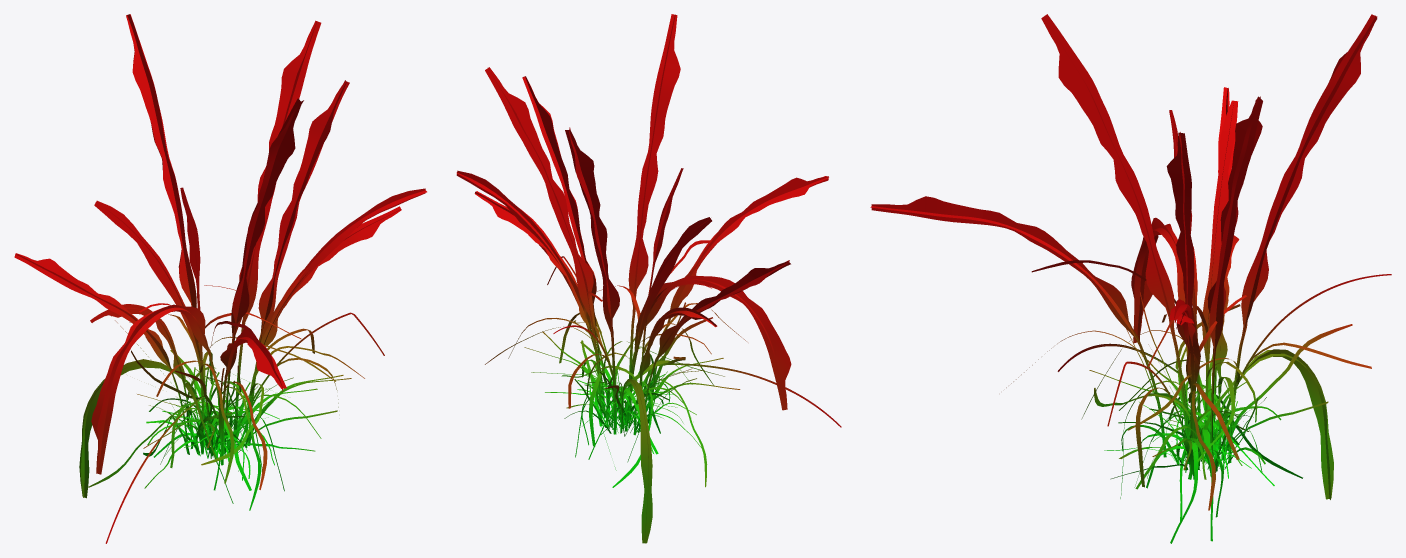
File: Wheat_LOD0_Var2_smdoejyr.fbx
3 views of the same model, side by side, from view 1: azimuth 30°, elevation 25°; view 2: azimuth 150°, elevation 25°; view 3: azimuth 270°, elevation 25° (orthographic). The views are drawn at different scales.
Visible parts, largest first — view 1: _iked_Var2_LOD0; view 2: _iked_Var2_LOD0; view 3: _iked_Var2_LOD0.
Part boxes in pixels (bbox=[...]): _iked_Var2_LOD0: bbox=[14, 14, 426, 543]; _iked_Var2_LOD0: bbox=[456, 14, 841, 543]; _iked_Var2_LOD0: bbox=[870, 14, 1391, 543].
Bounding box in the file's own units: 55.65 × 63.9 × 56.37.
